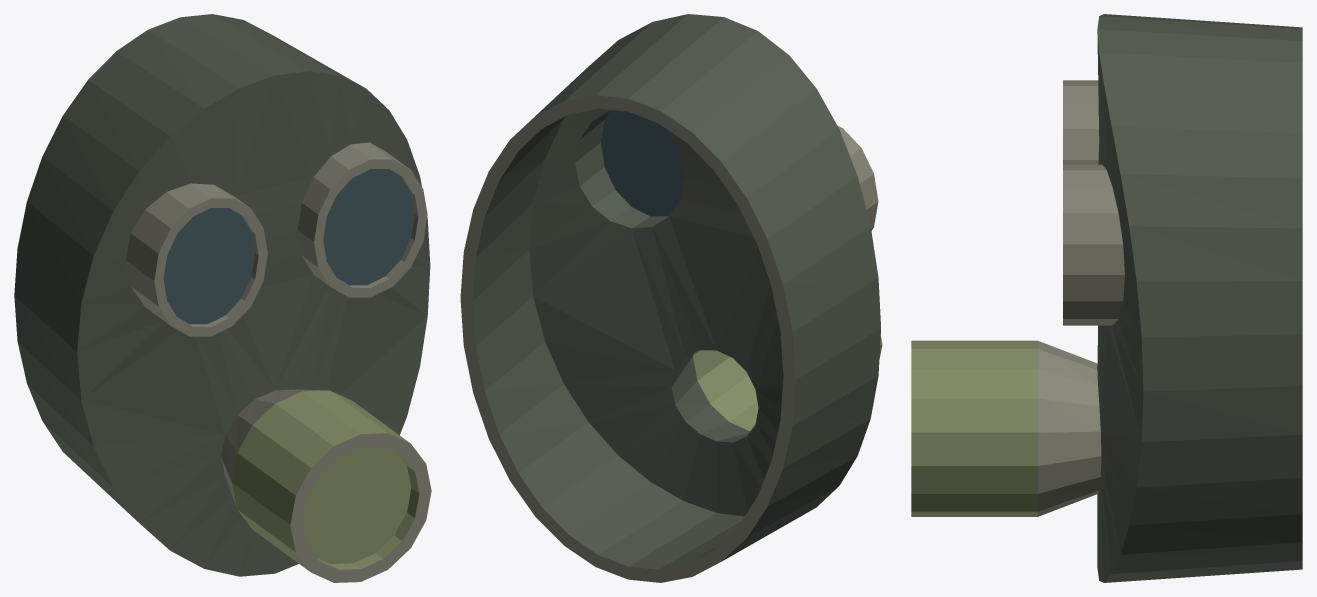
File: NEW_RECOVERY_060_LOD1.glb
The picture shows the model from 3 angles, left to right: view 1: azimuth 30°, elevation 25°; view 2: azimuth 150°, elevation 25°; view 3: azimuth 270°, elevation 25°; orthographic projection. The views are drawn at different scales.
Parts seen in each view (by area): view 1: Gas_mask; view 2: Gas_mask; view 3: Gas_mask.
Boxes of the visible parts, bbox=[...] form: Gas_mask: bbox=[14, 14, 431, 582]; Gas_mask: bbox=[460, 14, 882, 582]; Gas_mask: bbox=[911, 14, 1302, 582].
Bounding box in the file's own units: 0.23 × 0.31 × 0.204.
